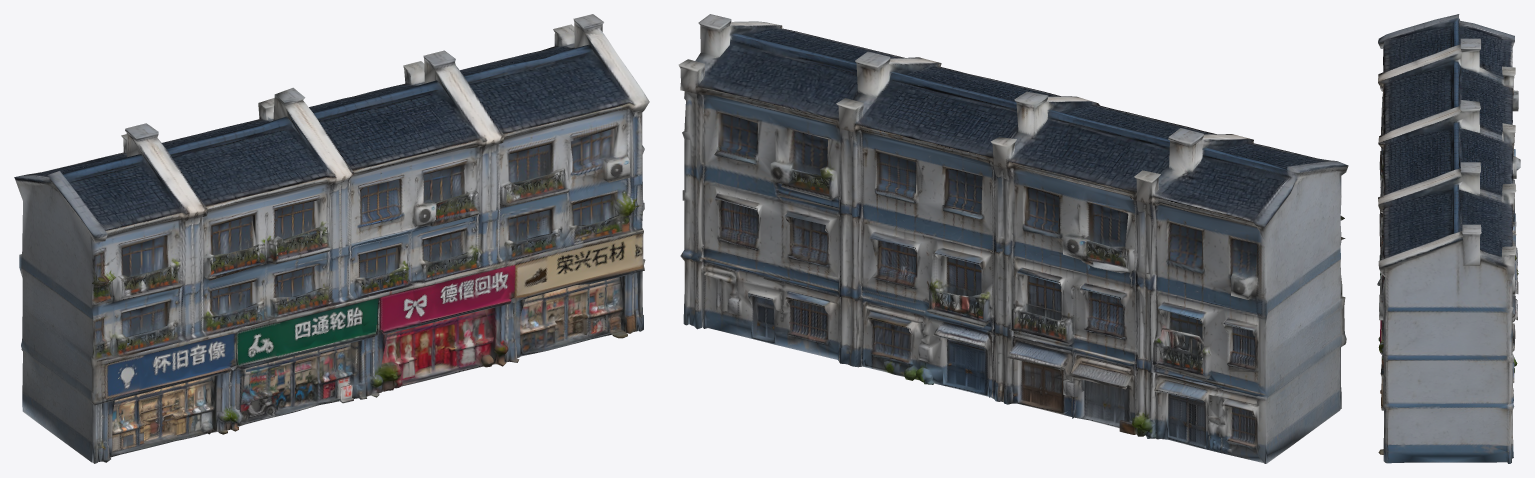
Rendered from urban_shopfront_13.glb.
3 views of the same model, side by side, from view 1: azimuth 30°, elevation 25°; view 2: azimuth 150°, elevation 25°; view 3: azimuth 270°, elevation 25° (orthographic). The views are drawn at different scales.
Visible parts, largest first — view 1: tripo_node_8dec47c9-25a1-4d84-b846-f0addfb0c20b; view 2: tripo_node_8dec47c9-25a1-4d84-b846-f0addfb0c20b; view 3: tripo_node_8dec47c9-25a1-4d84-b846-f0addfb0c20b.
Boxes of the visible parts, x1,y1,x2,y2 form: tripo_node_8dec47c9-25a1-4d84-b846-f0addfb0c20b: (14, 14, 649, 463); tripo_node_8dec47c9-25a1-4d84-b846-f0addfb0c20b: (678, 14, 1348, 463); tripo_node_8dec47c9-25a1-4d84-b846-f0addfb0c20b: (1377, 14, 1520, 463).
Size of the model in its own units: 0.9777 by 0.4568 by 0.2556.
1 material, 1 textured.
